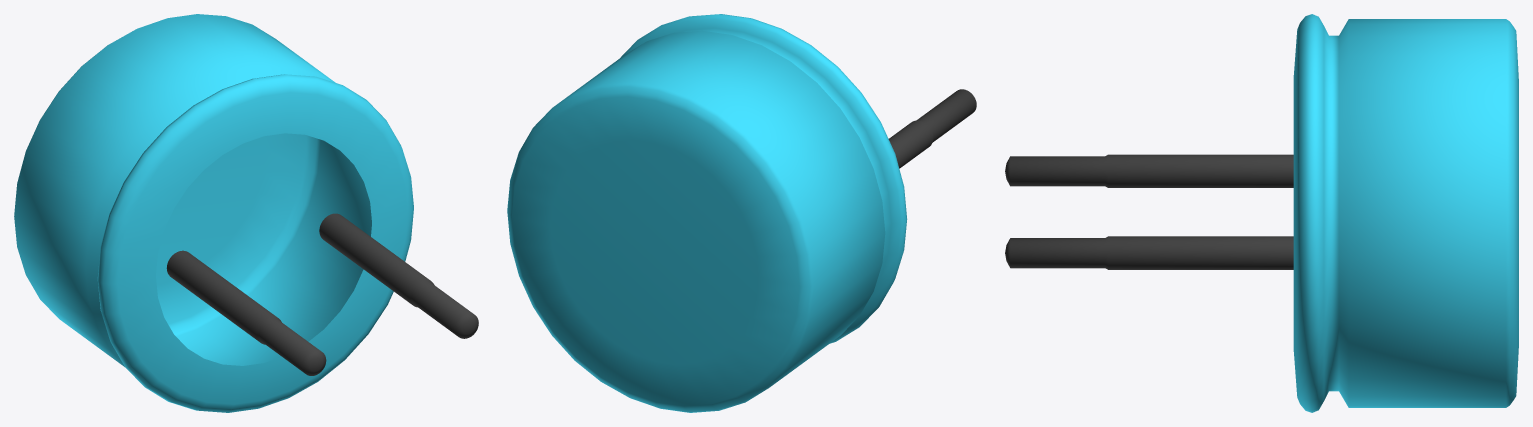
Rendered from Capacitor-Base 1.fbx.
The picture shows the model from 3 angles, left to right: view 1: azimuth 30°, elevation 25°; view 2: azimuth 150°, elevation 25°; view 3: azimuth 270°, elevation 25°; orthographic projection. The views are drawn at different scales.
Visible parts, largest first — view 1: Capacitor1; view 2: Capacitor1; view 3: Capacitor1.
Boxes of the visible parts, x1,y1,x2,y2 form: Capacitor1: (14,14,478,412); Capacitor1: (507,14,976,412); Capacitor1: (1005,14,1518,412).
Bounding box in the file's own units: 116 × 116 × 149.
